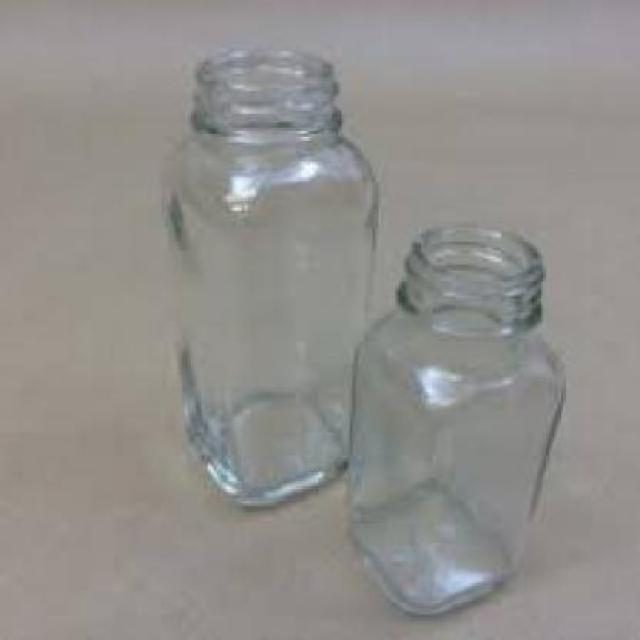kaca: (162, 46, 378, 506), (348, 222, 563, 609)
